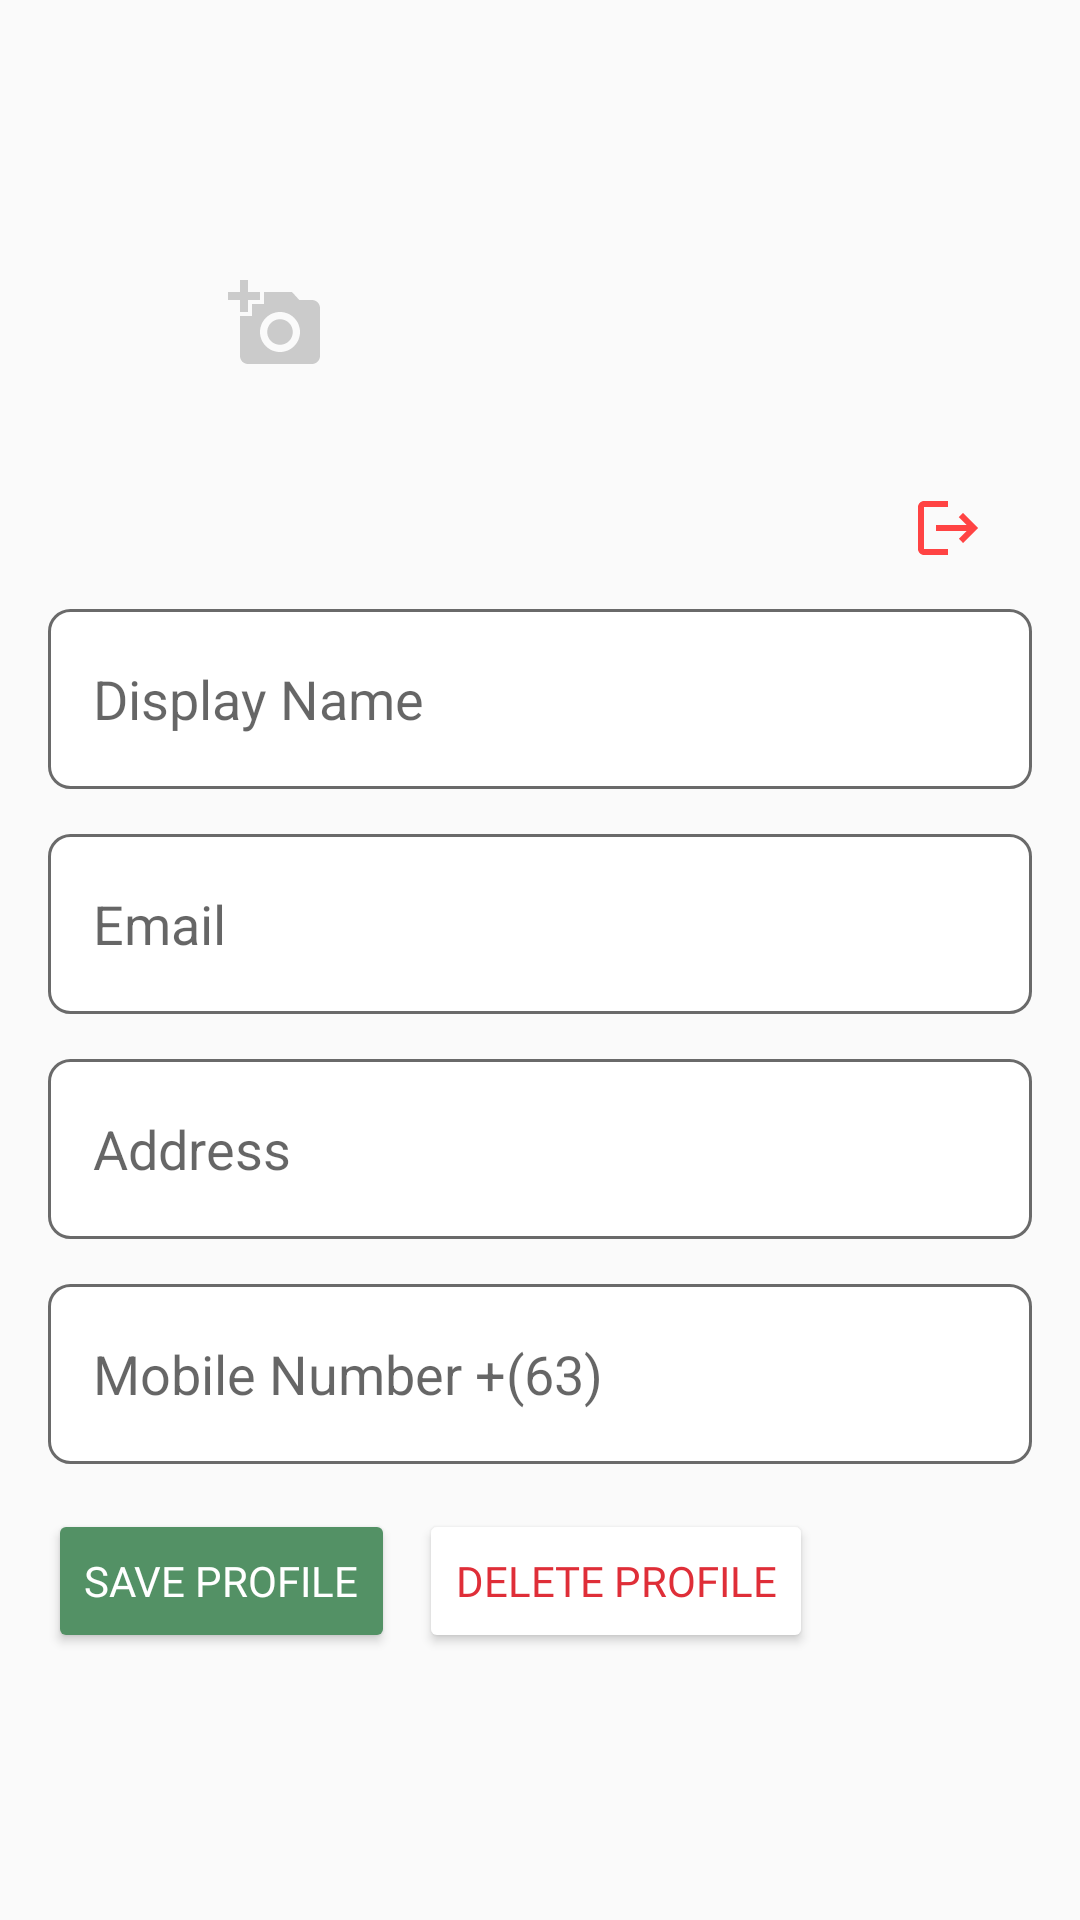

Icon click points for this 1080 x 1920 phone screenshot, format (x,y):
Add Photo Icon: (274,322)
